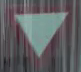Give way: (7, 2, 75, 60)
